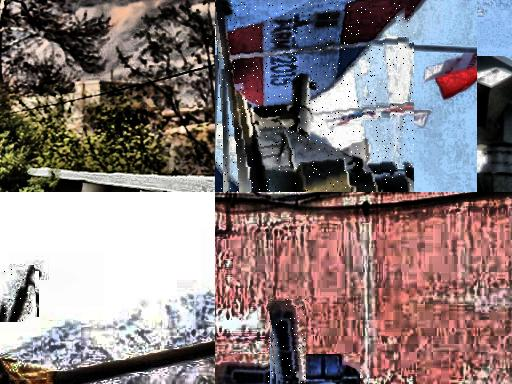tanks: (216, 1, 409, 193), (1, 343, 216, 384), (269, 301, 307, 384), (1, 267, 35, 322)
